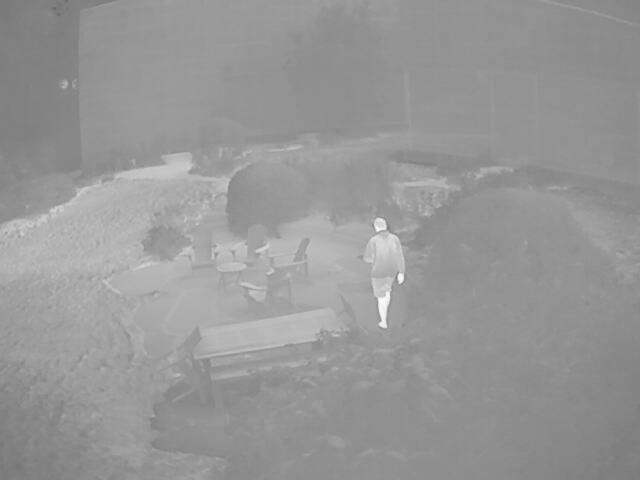person: (364, 216, 404, 329)
